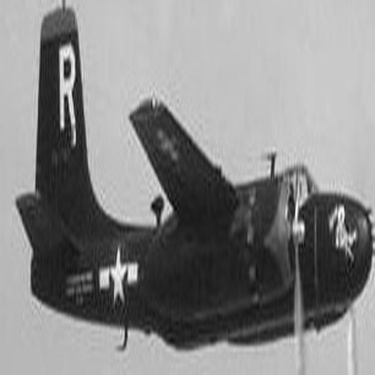airplane: (3, 1, 369, 371)
